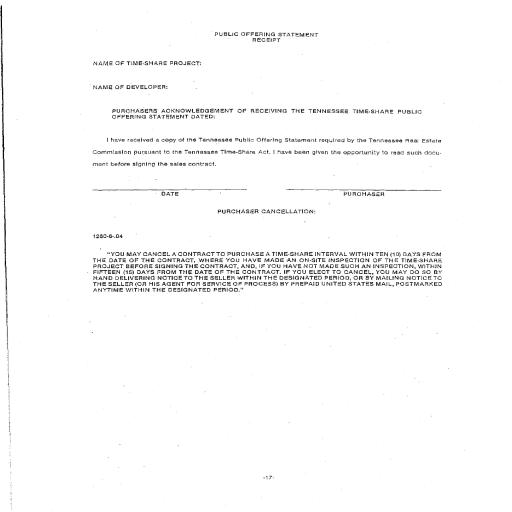date: (154, 190, 187, 196)
free_text: (341, 190, 388, 202)
